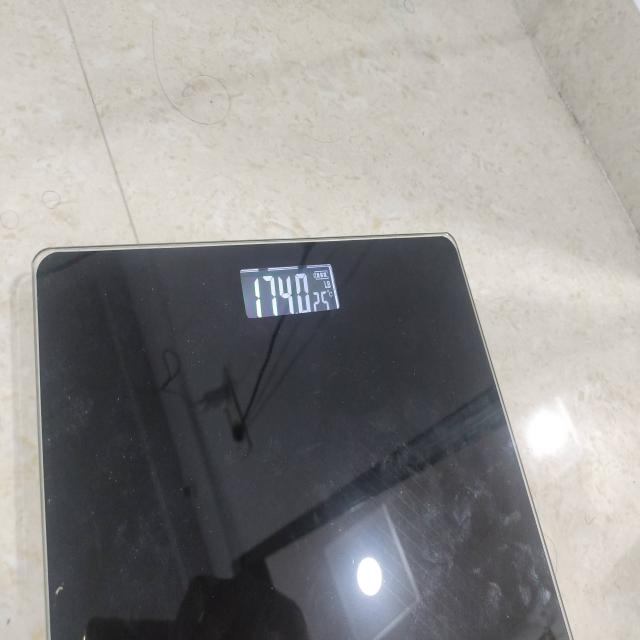ws: (28, 234, 573, 640)
